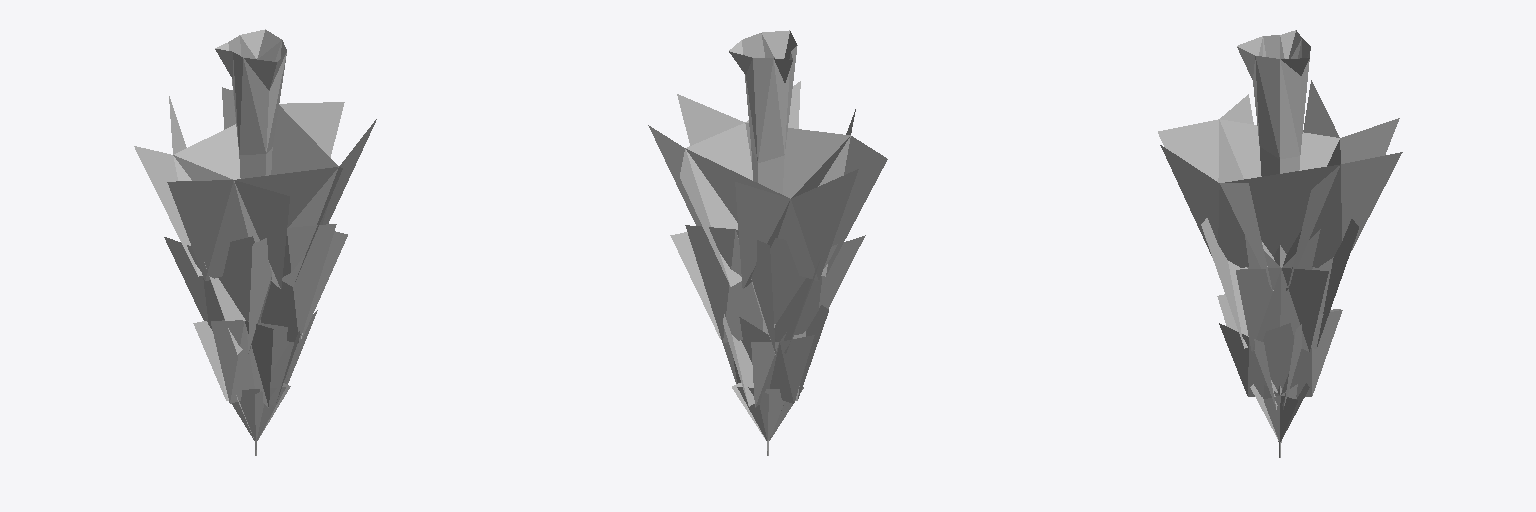
The model's file is tree1.obj.
The picture shows the model from 3 angles: view 1: azimuth 30°, elevation 25°; view 2: azimuth 150°, elevation 25°; view 3: azimuth 270°, elevation 25°; orthographic projection.
Size of the model in its own units: 25.29 by 47.48 by 25.18.